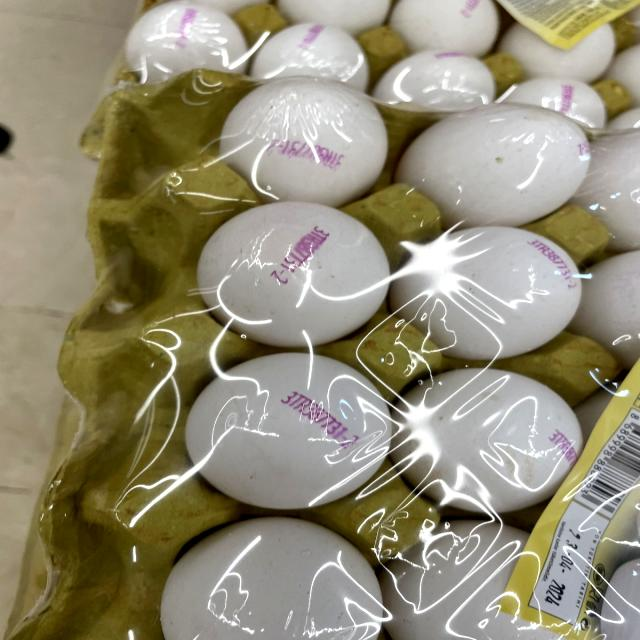egg: (183, 195, 401, 345), (172, 349, 385, 502), (399, 365, 585, 509), (400, 220, 589, 356), (401, 92, 595, 224), (205, 70, 396, 203)
